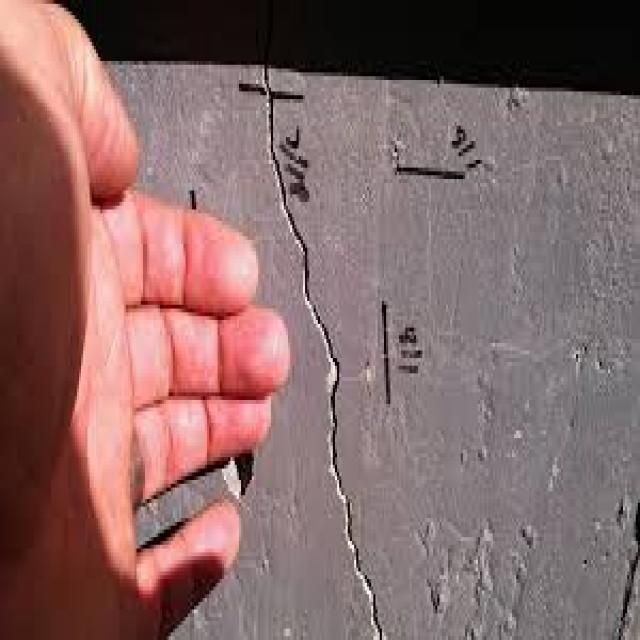Crack: (262, 65, 384, 636)
